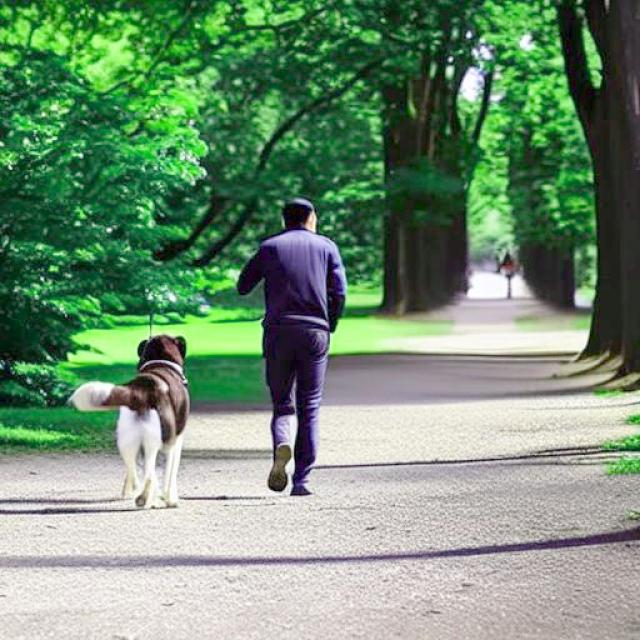Unleashed_Dog: (66, 334, 294, 508)
